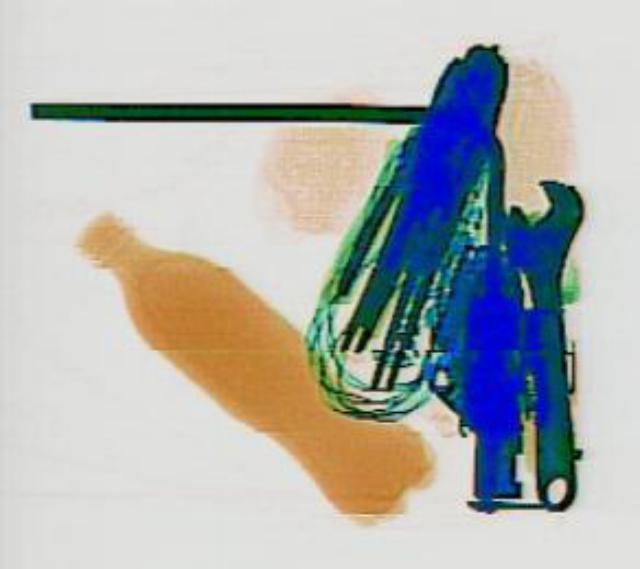Wrench: (498, 177, 596, 510)
